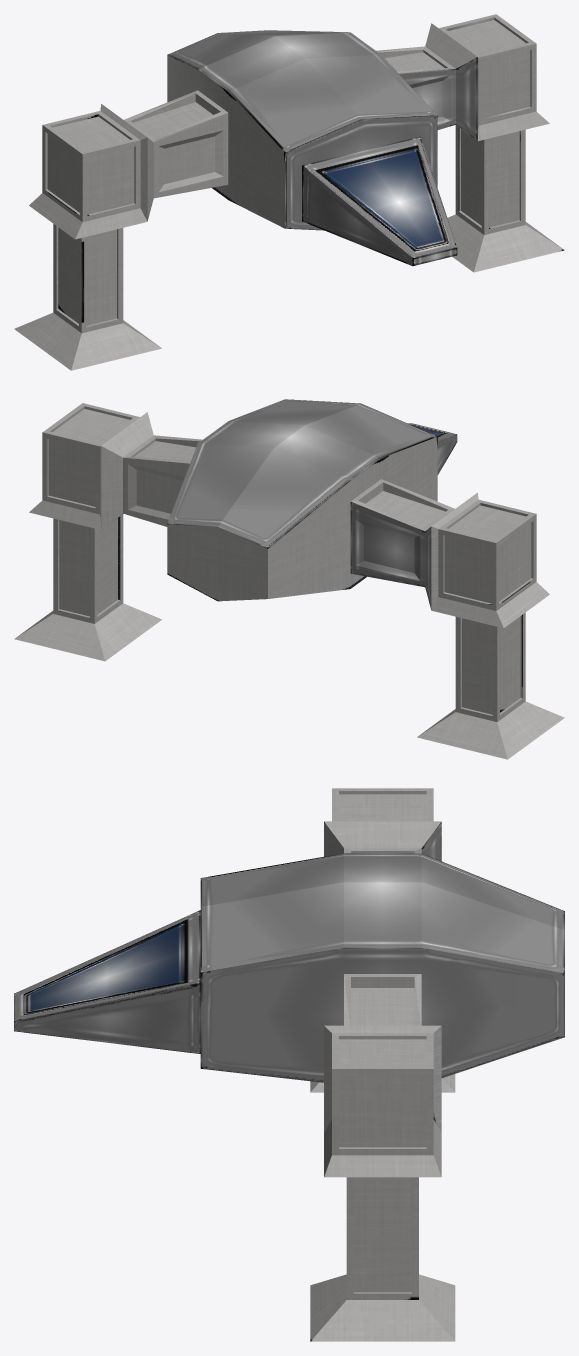
Rendered from BossTextured.FBX.
3 renders of one model, top to bottom at view 1: azimuth 30°, elevation 25°; view 2: azimuth 150°, elevation 25°; view 3: azimuth 270°, elevation 25°, orthographic. The views are drawn at different scales.
Parts seen in each view (by area): view 1: Box001; view 2: Box001; view 3: Box001.
Part boxes in pixels (box(x1,y1,x2,y2)): Box001: box(14, 14, 564, 370); Box001: box(14, 399, 564, 759); Box001: box(14, 788, 564, 1341).
Size of the model in its own units: 198 by 92.93 by 151.
